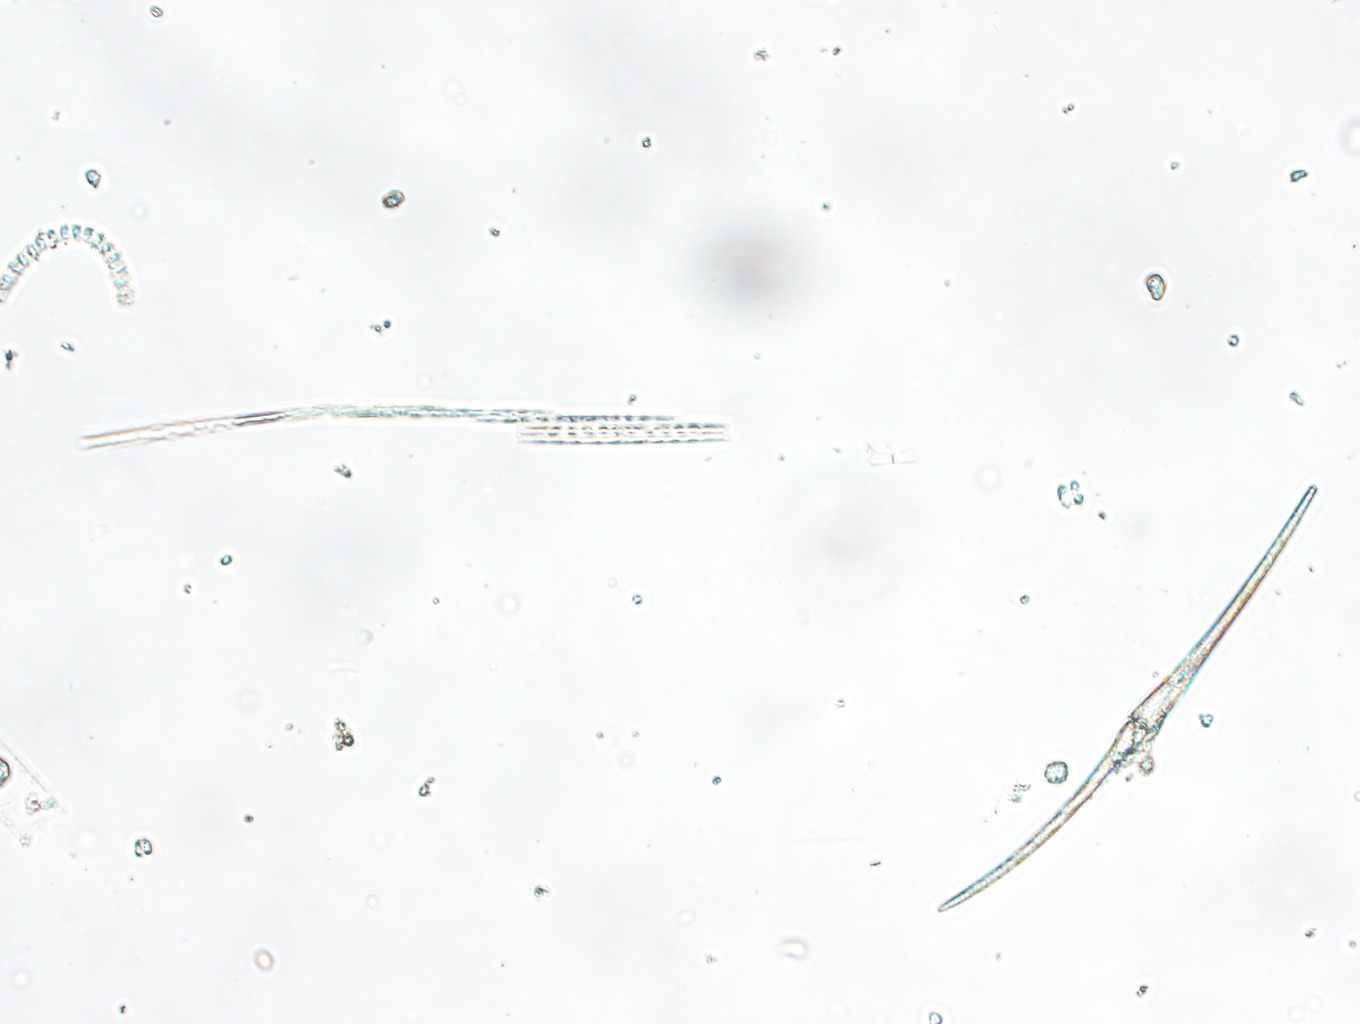ceratium fusus: (939, 457, 1360, 911)
